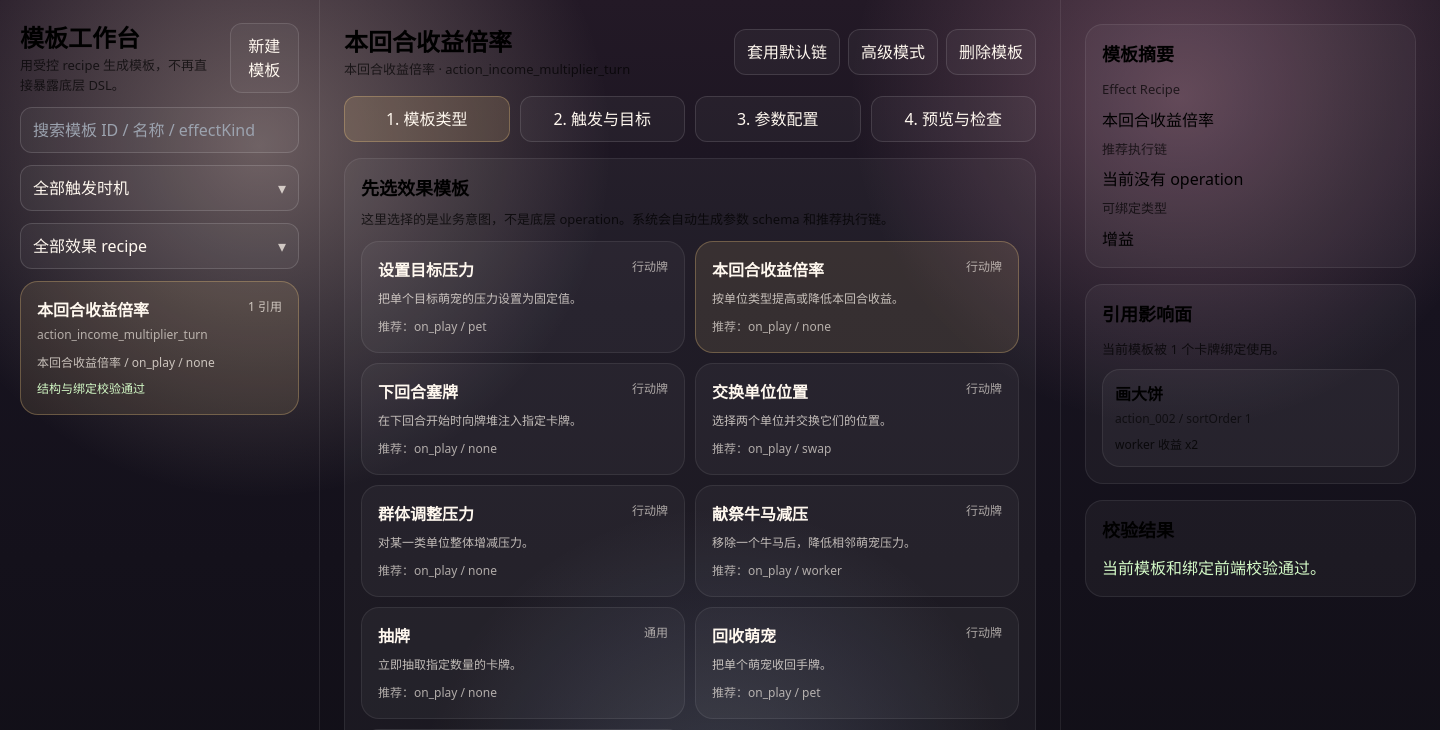
Test case: TemplateWorkspace › filters templates by search
Type "不存在" into the field with placeholder "搜索模板 ID / 名称 / effectKind" at (160, 130), box x1=20 y1=107 x2=299 y2=153
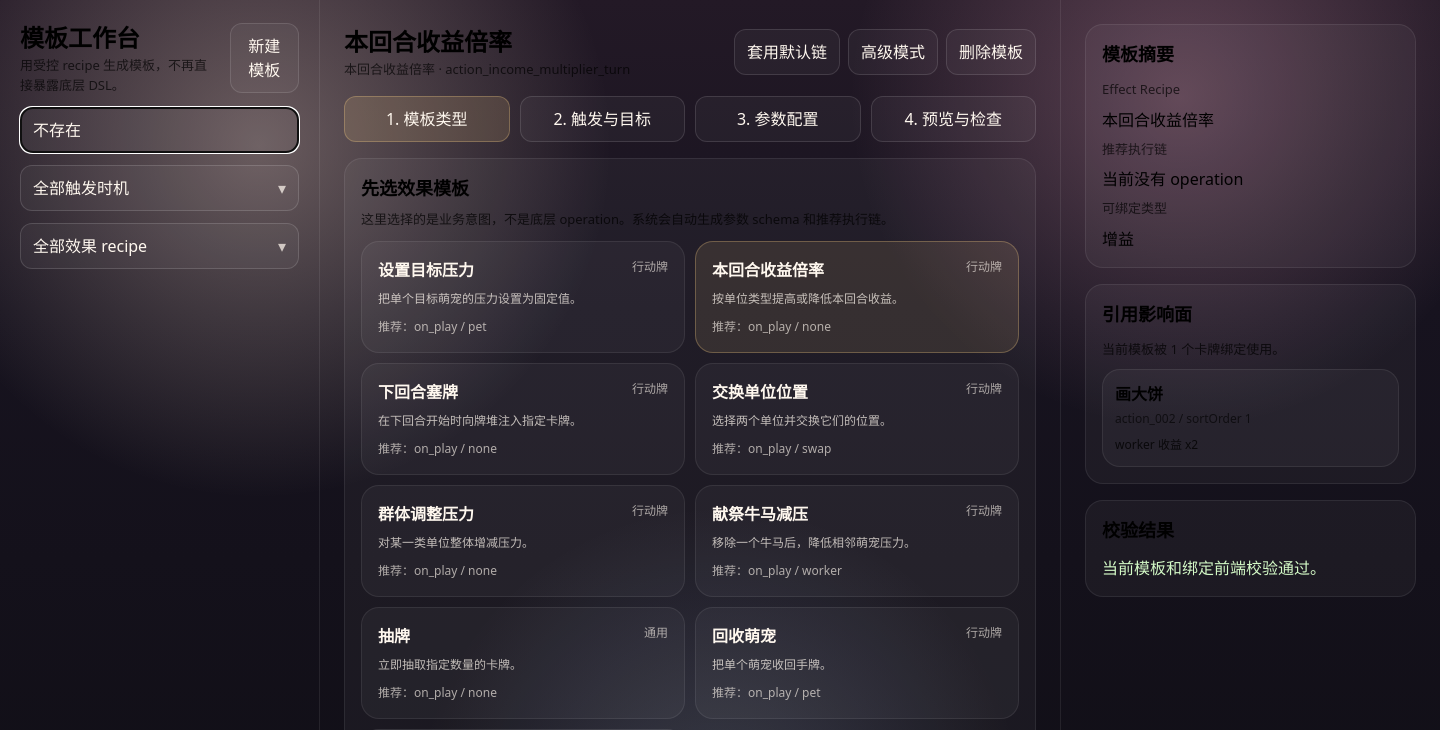
Expected: the button "1 引用" is gone
